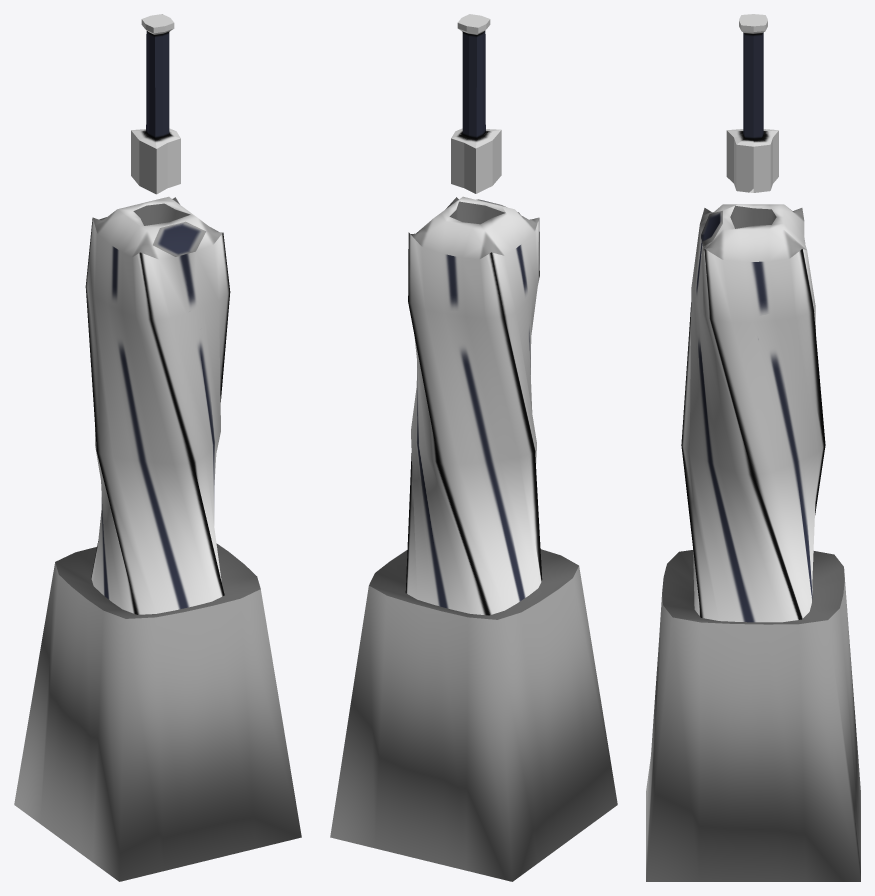
File: interruptor2.dae
The picture shows the model from 3 angles, left to right: view 1: azimuth 30°, elevation 25°; view 2: azimuth 150°, elevation 25°; view 3: azimuth 270°, elevation 25°; orthographic projection. The views are drawn at different scales.
Visible parts, largest first — view 1: Cube, Cube_002; view 2: Cube, Cube_002; view 3: Cube, Cube_002.
Boxes of the visible parts, x1,y1,x2,y2 form: Cube: [14, 196, 301, 881]; Cube_002: [131, 14, 180, 194]; Cube: [330, 196, 617, 881]; Cube_002: [451, 14, 501, 193]; Cube: [646, 204, 860, 881]; Cube_002: [726, 14, 778, 192].
Bounding box in the file's own units: 1.76 × 1.76 × 7.38.
Materials: 2 (2 with a texture image).
